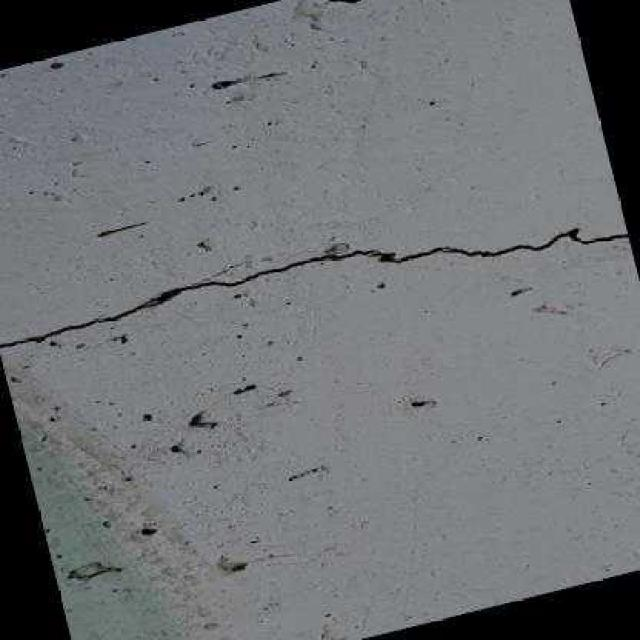D00: (0, 227, 630, 349), (196, 252, 288, 283)
